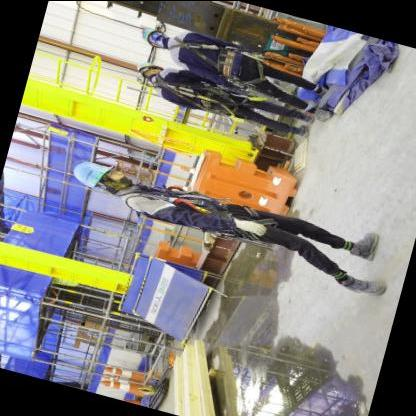Helmet: (64, 148, 119, 198)
safety-shoe: (338, 271, 394, 308), (345, 221, 385, 265)
